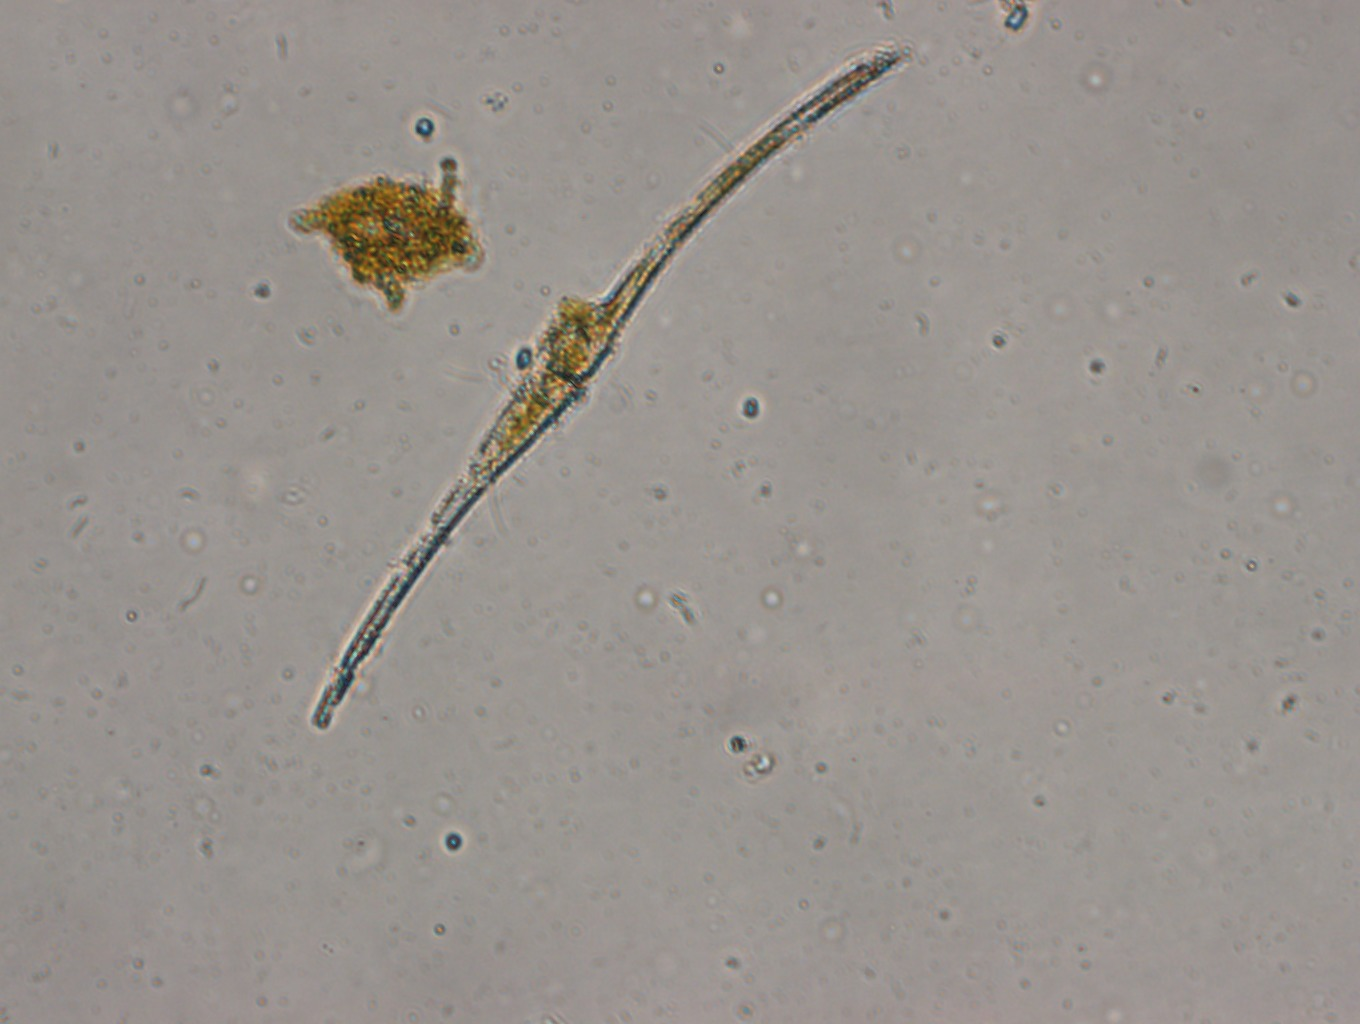ceratium fusus: (300, 42, 922, 740)
